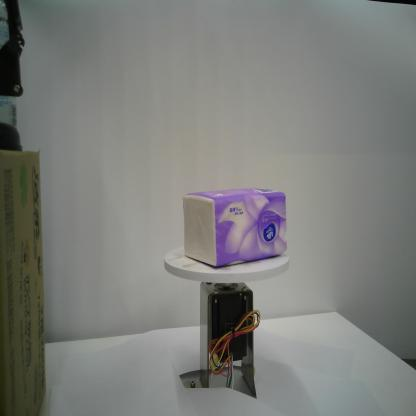Tissue: (181, 184, 291, 271)
